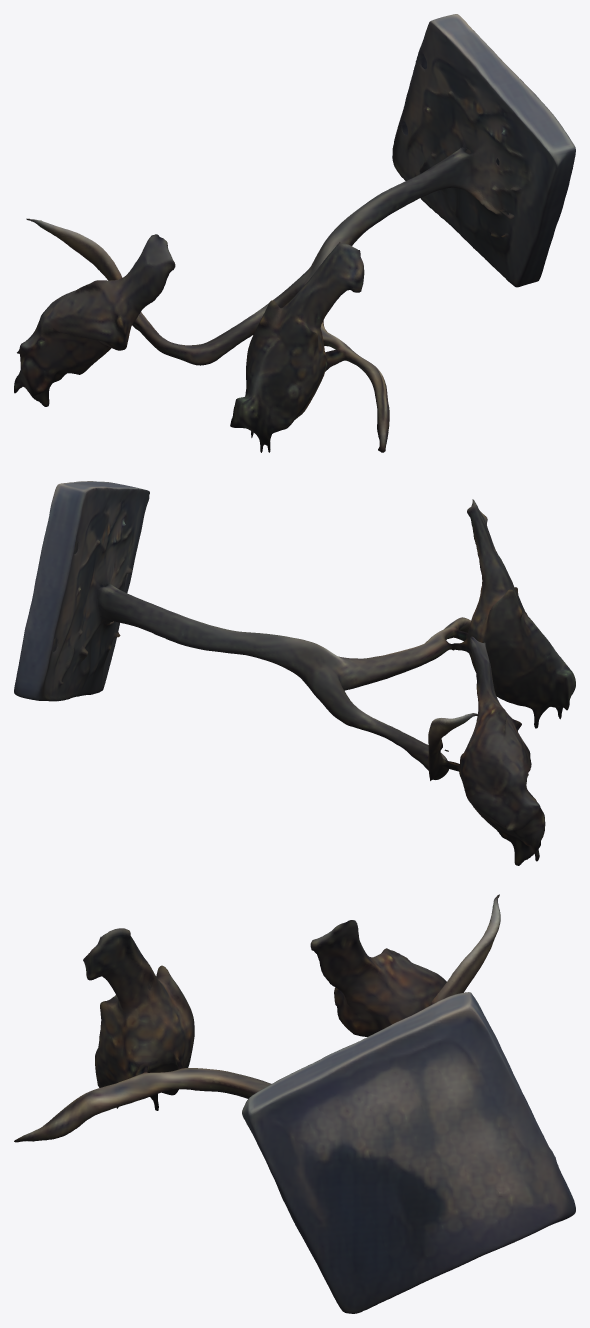
File: obj05_ours.glb
3 renders of one model, top to bottom at view 1: azimuth 30°, elevation 25°; view 2: azimuth 150°, elevation 25°; view 3: azimuth 270°, elevation 25°, orthographic. The views are drawn at different scales.
Parts seen in each view (by area): view 1: n1; view 2: n1; view 3: n1.
Part boxes in pixels (x1,y1,x2,y2): n1: (14, 14, 575, 452); n1: (14, 481, 575, 865); n1: (14, 894, 575, 1313).
Bounding box in the file's own units: 0.8931 × 0.4871 × 0.7368.
